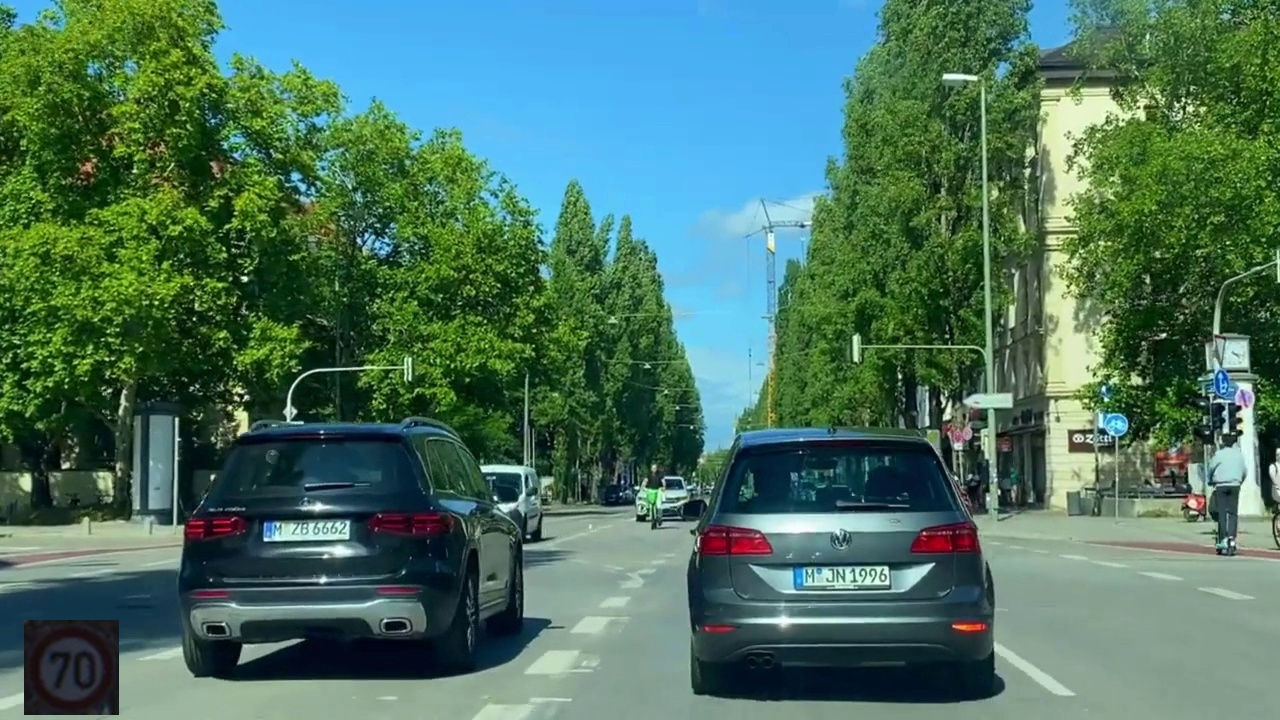Speed 70: (24, 620, 119, 715)
